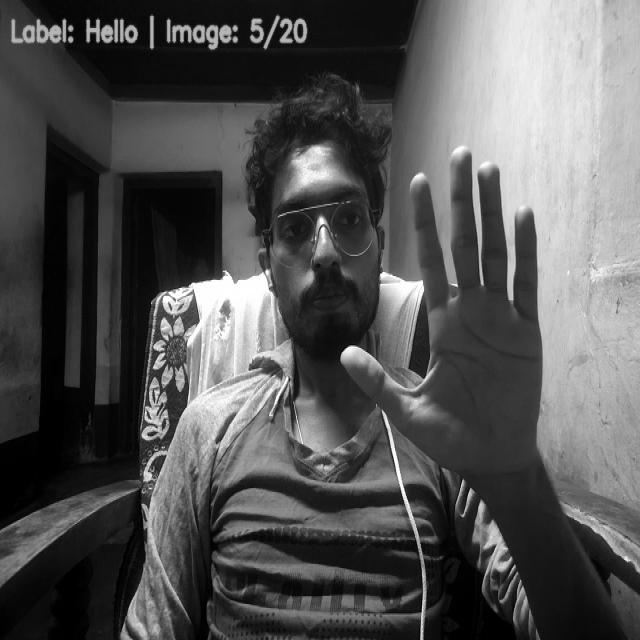Hello: (344, 143, 560, 460)
